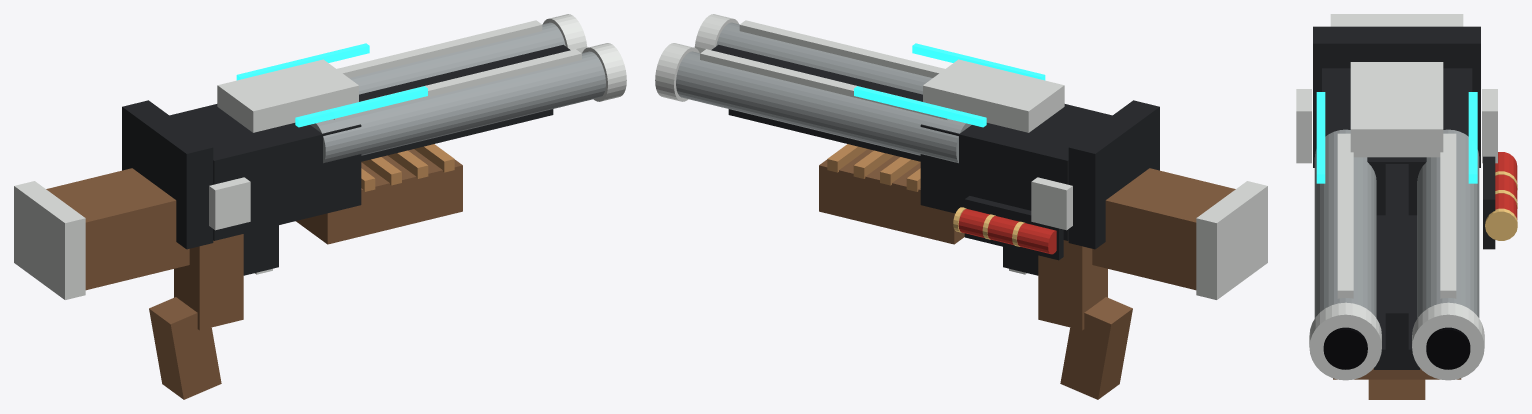
The model's file is lg_duel_shotgun_sg.glb.
3 views of the same model, side by side, from view 1: azimuth 30°, elevation 25°; view 2: azimuth 150°, elevation 25°; view 3: azimuth 270°, elevation 25° (orthographic). The views are drawn at different scales.
Visible parts, largest first — view 1: receiver_heavy_beveled_block, left_long_barrel_outer_tube, short_rear_stock_stub, rear_dark_breech_face, wide_walnut_foregrip, rear_butt_plate_metal, top_locking_rib, angled_dark_walnut_pistol_grip_upper, angled_dark_walnut_pistol_grip_lower, right_long_barrel_outer_tube, right_flat_top_highlight_strip, left_flat_top_highlight_strip (+11 smaller); view 2: right_long_barrel_outer_tube, receiver_heavy_beveled_block, short_rear_stock_stub, rear_dark_breech_face, rear_butt_plate_metal, top_locking_rib, wide_walnut_foregrip, angled_dark_walnut_pistol_grip_lower, angled_dark_walnut_pistol_grip_upper, left_long_barrel_outer_tube, left_flat_top_highlight_strip, right_flat_top_highlight_strip (+15 smaller); view 3: top_locking_rib, rear_dark_breech_face, right_long_barrel_outer_tube, left_long_barrel_outer_tube, receiver_heavy_beveled_block, center_barrel_spacer_dark_spine, right_bright_muzzle_lip, left_bright_muzzle_lip, underbarrel_shadow_rib, left_flat_top_highlight_strip, right_flat_top_highlight_strip, rear_butt_plate_metal (+13 smaller).
Part boxes in pixels (x1,y1,x2,y2): receiver_heavy_beveled_block: (169,104,361,240); left_long_barrel_outer_tube: (310,51,605,163); short_rear_stock_stub: (46,168,189,290); rear_dark_breech_face: (122,100,213,249); wide_walnut_foregrip: (296,149,462,244); rear_butt_plate_metal: (14,181,85,299); top_locking_rib: (217,59,358,132); angled_dark_walnut_pistol_grip_upper: (174,234,243,330); angled_dark_walnut_pistol_grip_lower: (149,297,221,399); right_long_barrel_outer_tube: (349,22,565,94); right_flat_top_highlight_strip: (337,20,542,77); left_flat_top_highlight_strip: (334,49,581,119); right_long_barrel_outer_tube: (676,51,971,163); receiver_heavy_beveled_block: (920,104,1112,240); short_rear_stock_stub: (1092,168,1235,290); rear_dark_breech_face: (1068,100,1159,249); rear_butt_plate_metal: (1196,181,1267,299); top_locking_rib: (923,59,1064,132); wide_walnut_foregrip: (819,149,964,244); angled_dark_walnut_pistol_grip_lower: (1060,297,1132,399); angled_dark_walnut_pistol_grip_upper: (1038,240,1107,330); left_long_barrel_outer_tube: (716,22,932,94); left_flat_top_highlight_strip: (739,20,944,77); right_flat_top_highlight_strip: (700,49,947,119); top_locking_rib: (1350,62,1443,157); rear_dark_breech_face: (1313,26,1480,167); right_long_barrel_outer_tube: (1417,129,1479,318); left_long_barrel_outer_tube: (1314,129,1376,318); receiver_heavy_beveled_block: (1322,68,1472,215); center_barrel_spacer_dark_spine: (1385,164,1408,349); right_bright_muzzle_lip: (1412,302,1484,380); left_bright_muzzle_lip: (1309,302,1381,380); underbarrel_shadow_rib: (1374,215,1419,369); left_flat_top_highlight_strip: (1337,133,1353,298); right_flat_top_highlight_strip: (1440,133,1456,298); rear_butt_plate_metal: (1330,14,1463,26).
Size of the model in its own units: 0.9465 by 0.4522 by 0.2505.
